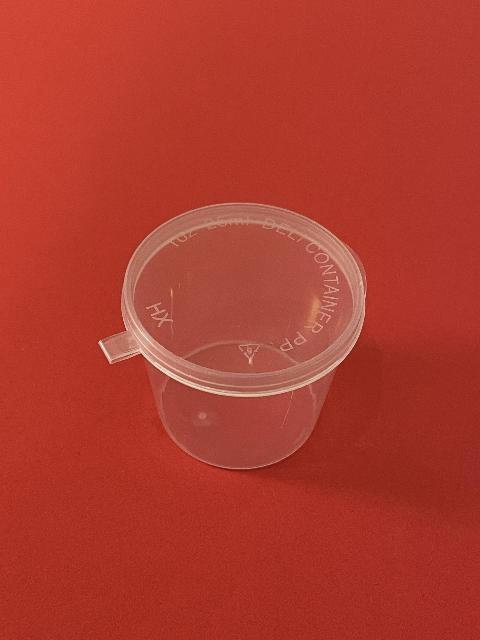plasticcontainer: (98, 200, 370, 472)
